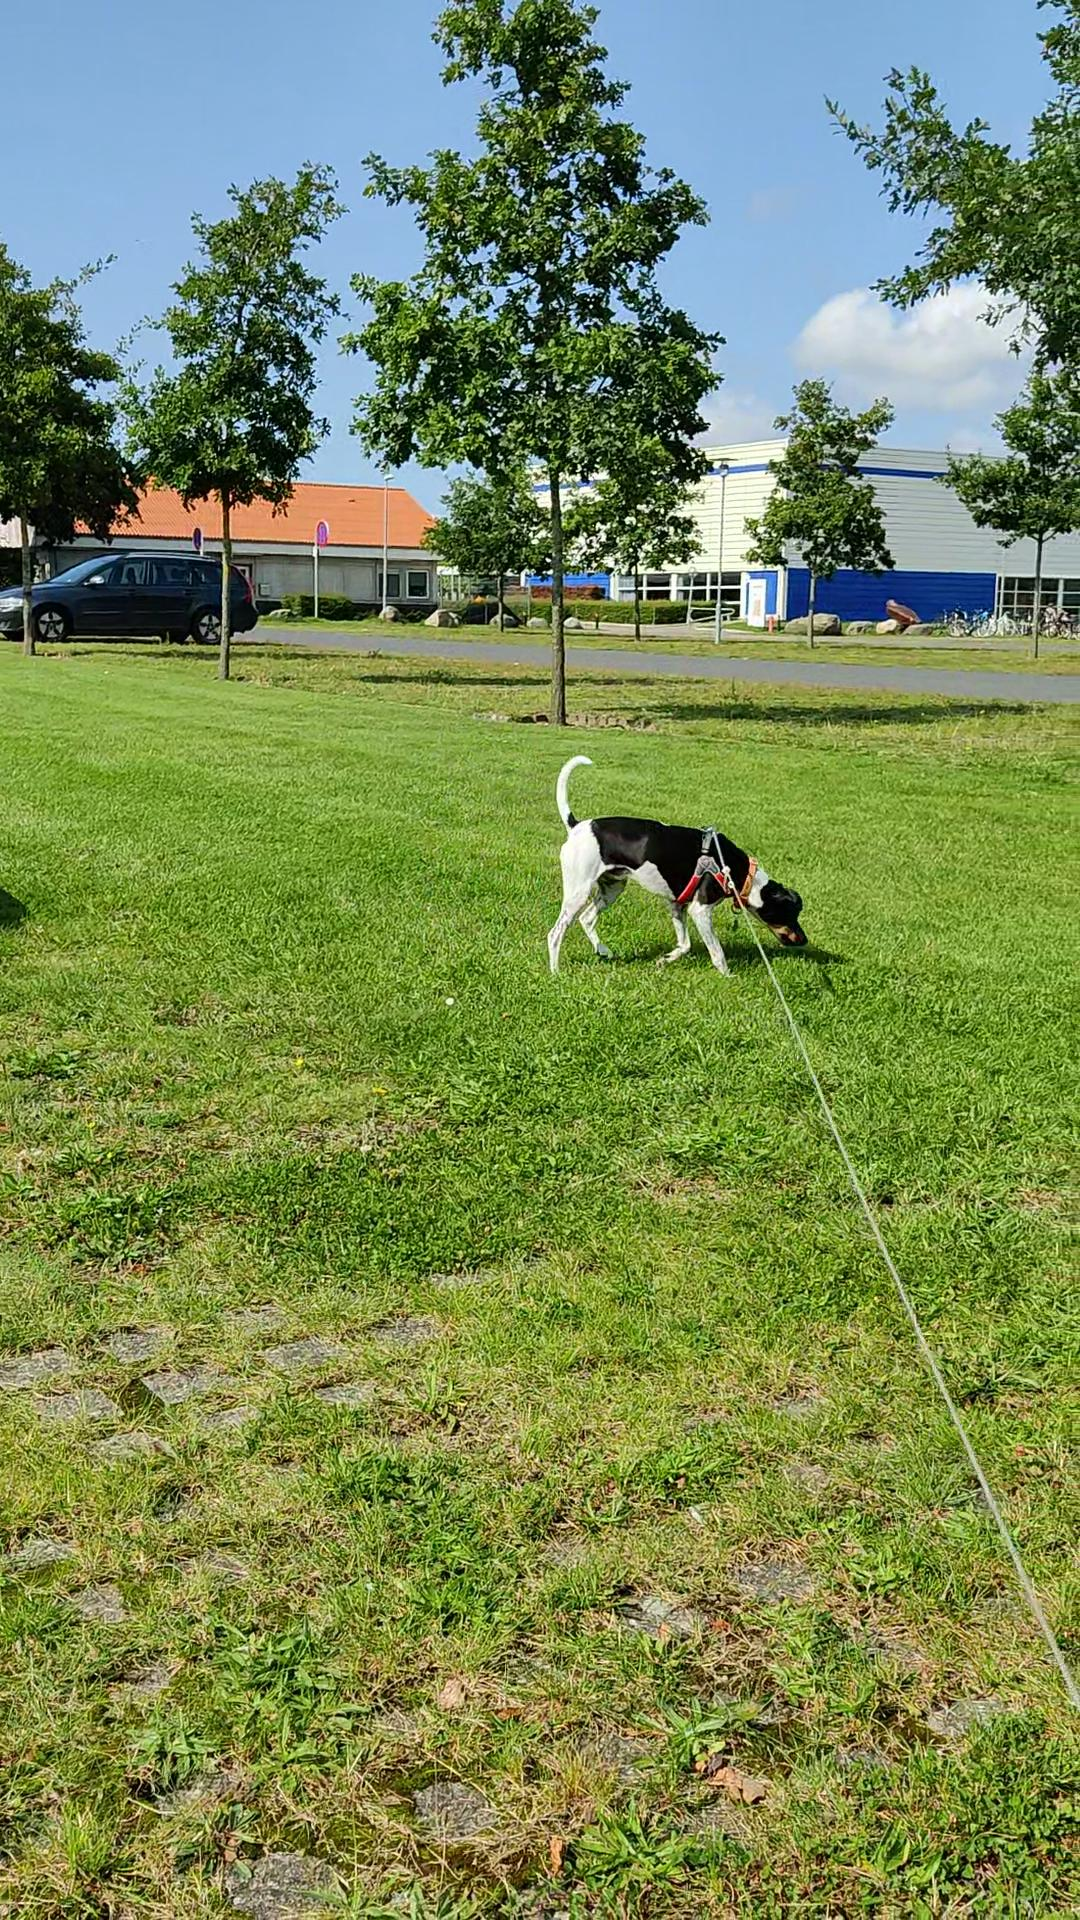Dog: (522, 745, 825, 980)
